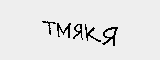К: (82, 23, 100, 44)
М: (54, 19, 73, 41)
Т: (39, 19, 56, 39)
Я: (98, 24, 120, 49), (71, 23, 83, 42)
